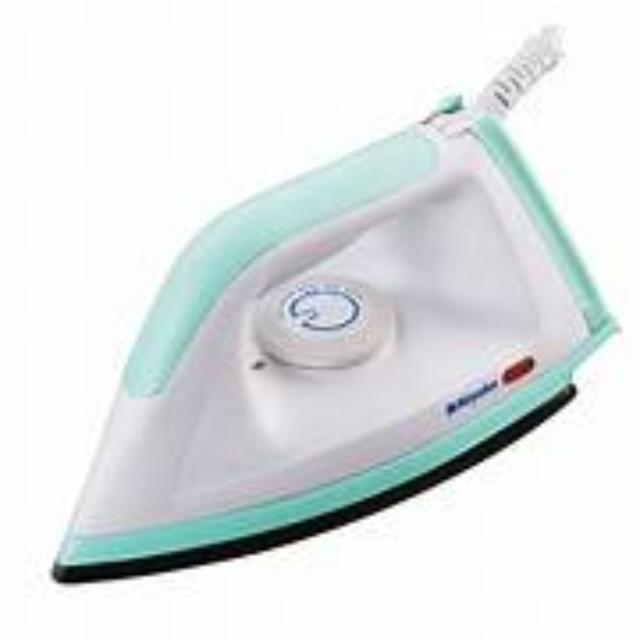Clothes-Iron: (39, 89, 634, 589)
